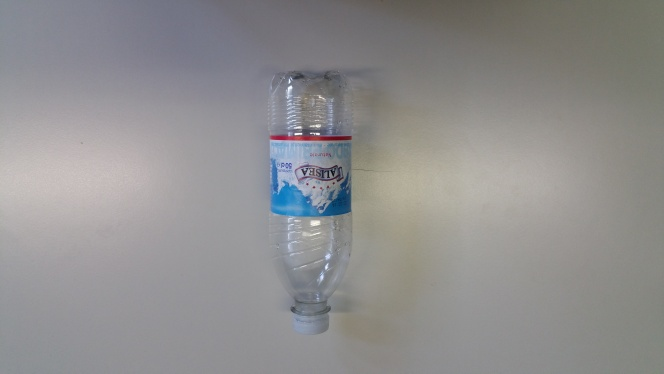bottle: (257, 70, 358, 332)
